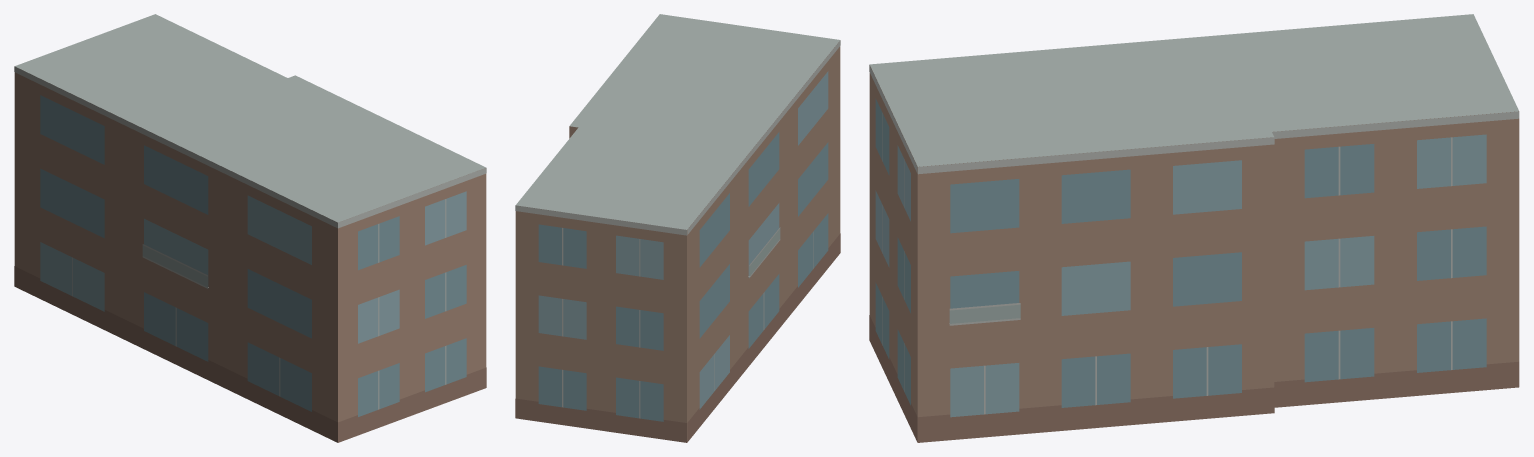
File: survey-upis-32707347.glb
3 views of the same model, side by side, from view 1: azimuth 30°, elevation 25°; view 2: azimuth 150°, elevation 25°; view 3: azimuth 270°, elevation 25° (orthographic). The views are drawn at different scales.
Parts seen in each view (by area): view 1: survey-upis-32707347.tmp; view 2: survey-upis-32707347.tmp; view 3: survey-upis-32707347.tmp.
Part boxes in pixels (box(x1,y1,x2,y2)): survey-upis-32707347.tmp: box(14, 14, 486, 442); survey-upis-32707347.tmp: box(515, 14, 840, 442); survey-upis-32707347.tmp: box(869, 14, 1519, 442).
Bounding box in the file's own units: 10.88 × 9.15 × 19.54.
